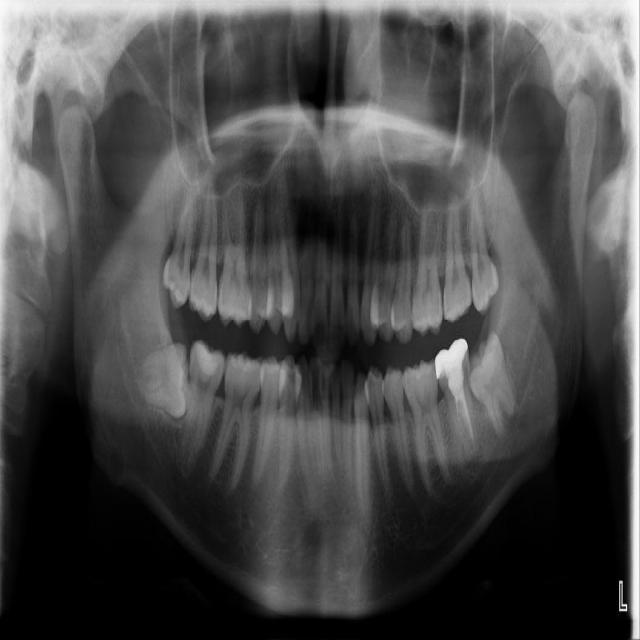3M ESPE Implant: (159, 171, 205, 311)
52: (434, 337, 471, 401), (189, 337, 224, 398)
73: (444, 387, 484, 465), (618, 614, 630, 624)
BioHorizons Implant: (443, 191, 473, 321)
BioLife Implant: (464, 180, 501, 316)
Biomet 3i Implant: (458, 330, 523, 443)
Blue Sky Bio Implant: (432, 337, 482, 471)
Caries: (187, 174, 219, 322)
Implant: (176, 338, 229, 478)
Keystone Dental Implant: (135, 342, 192, 419)
